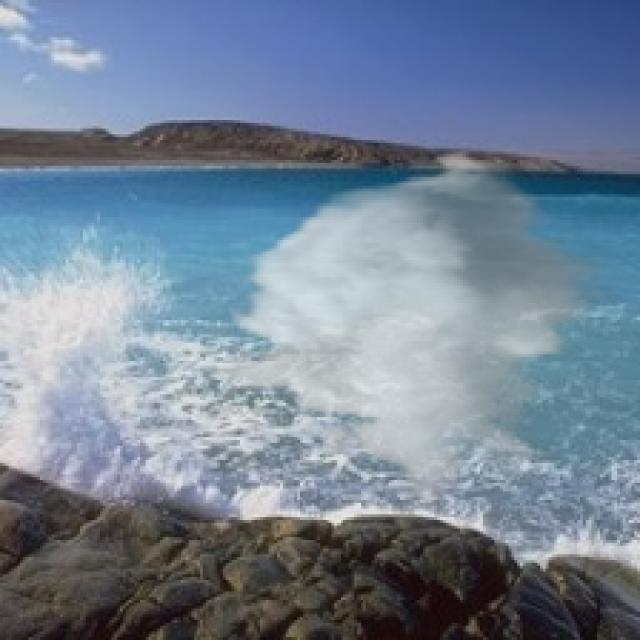Smoke: (199, 145, 612, 506)
